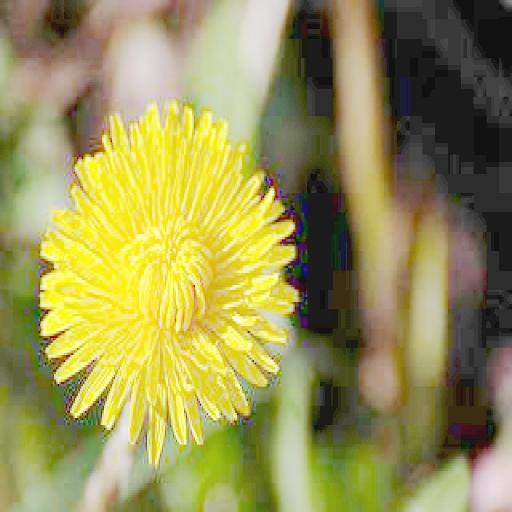dandelion: (38, 102, 301, 450)
